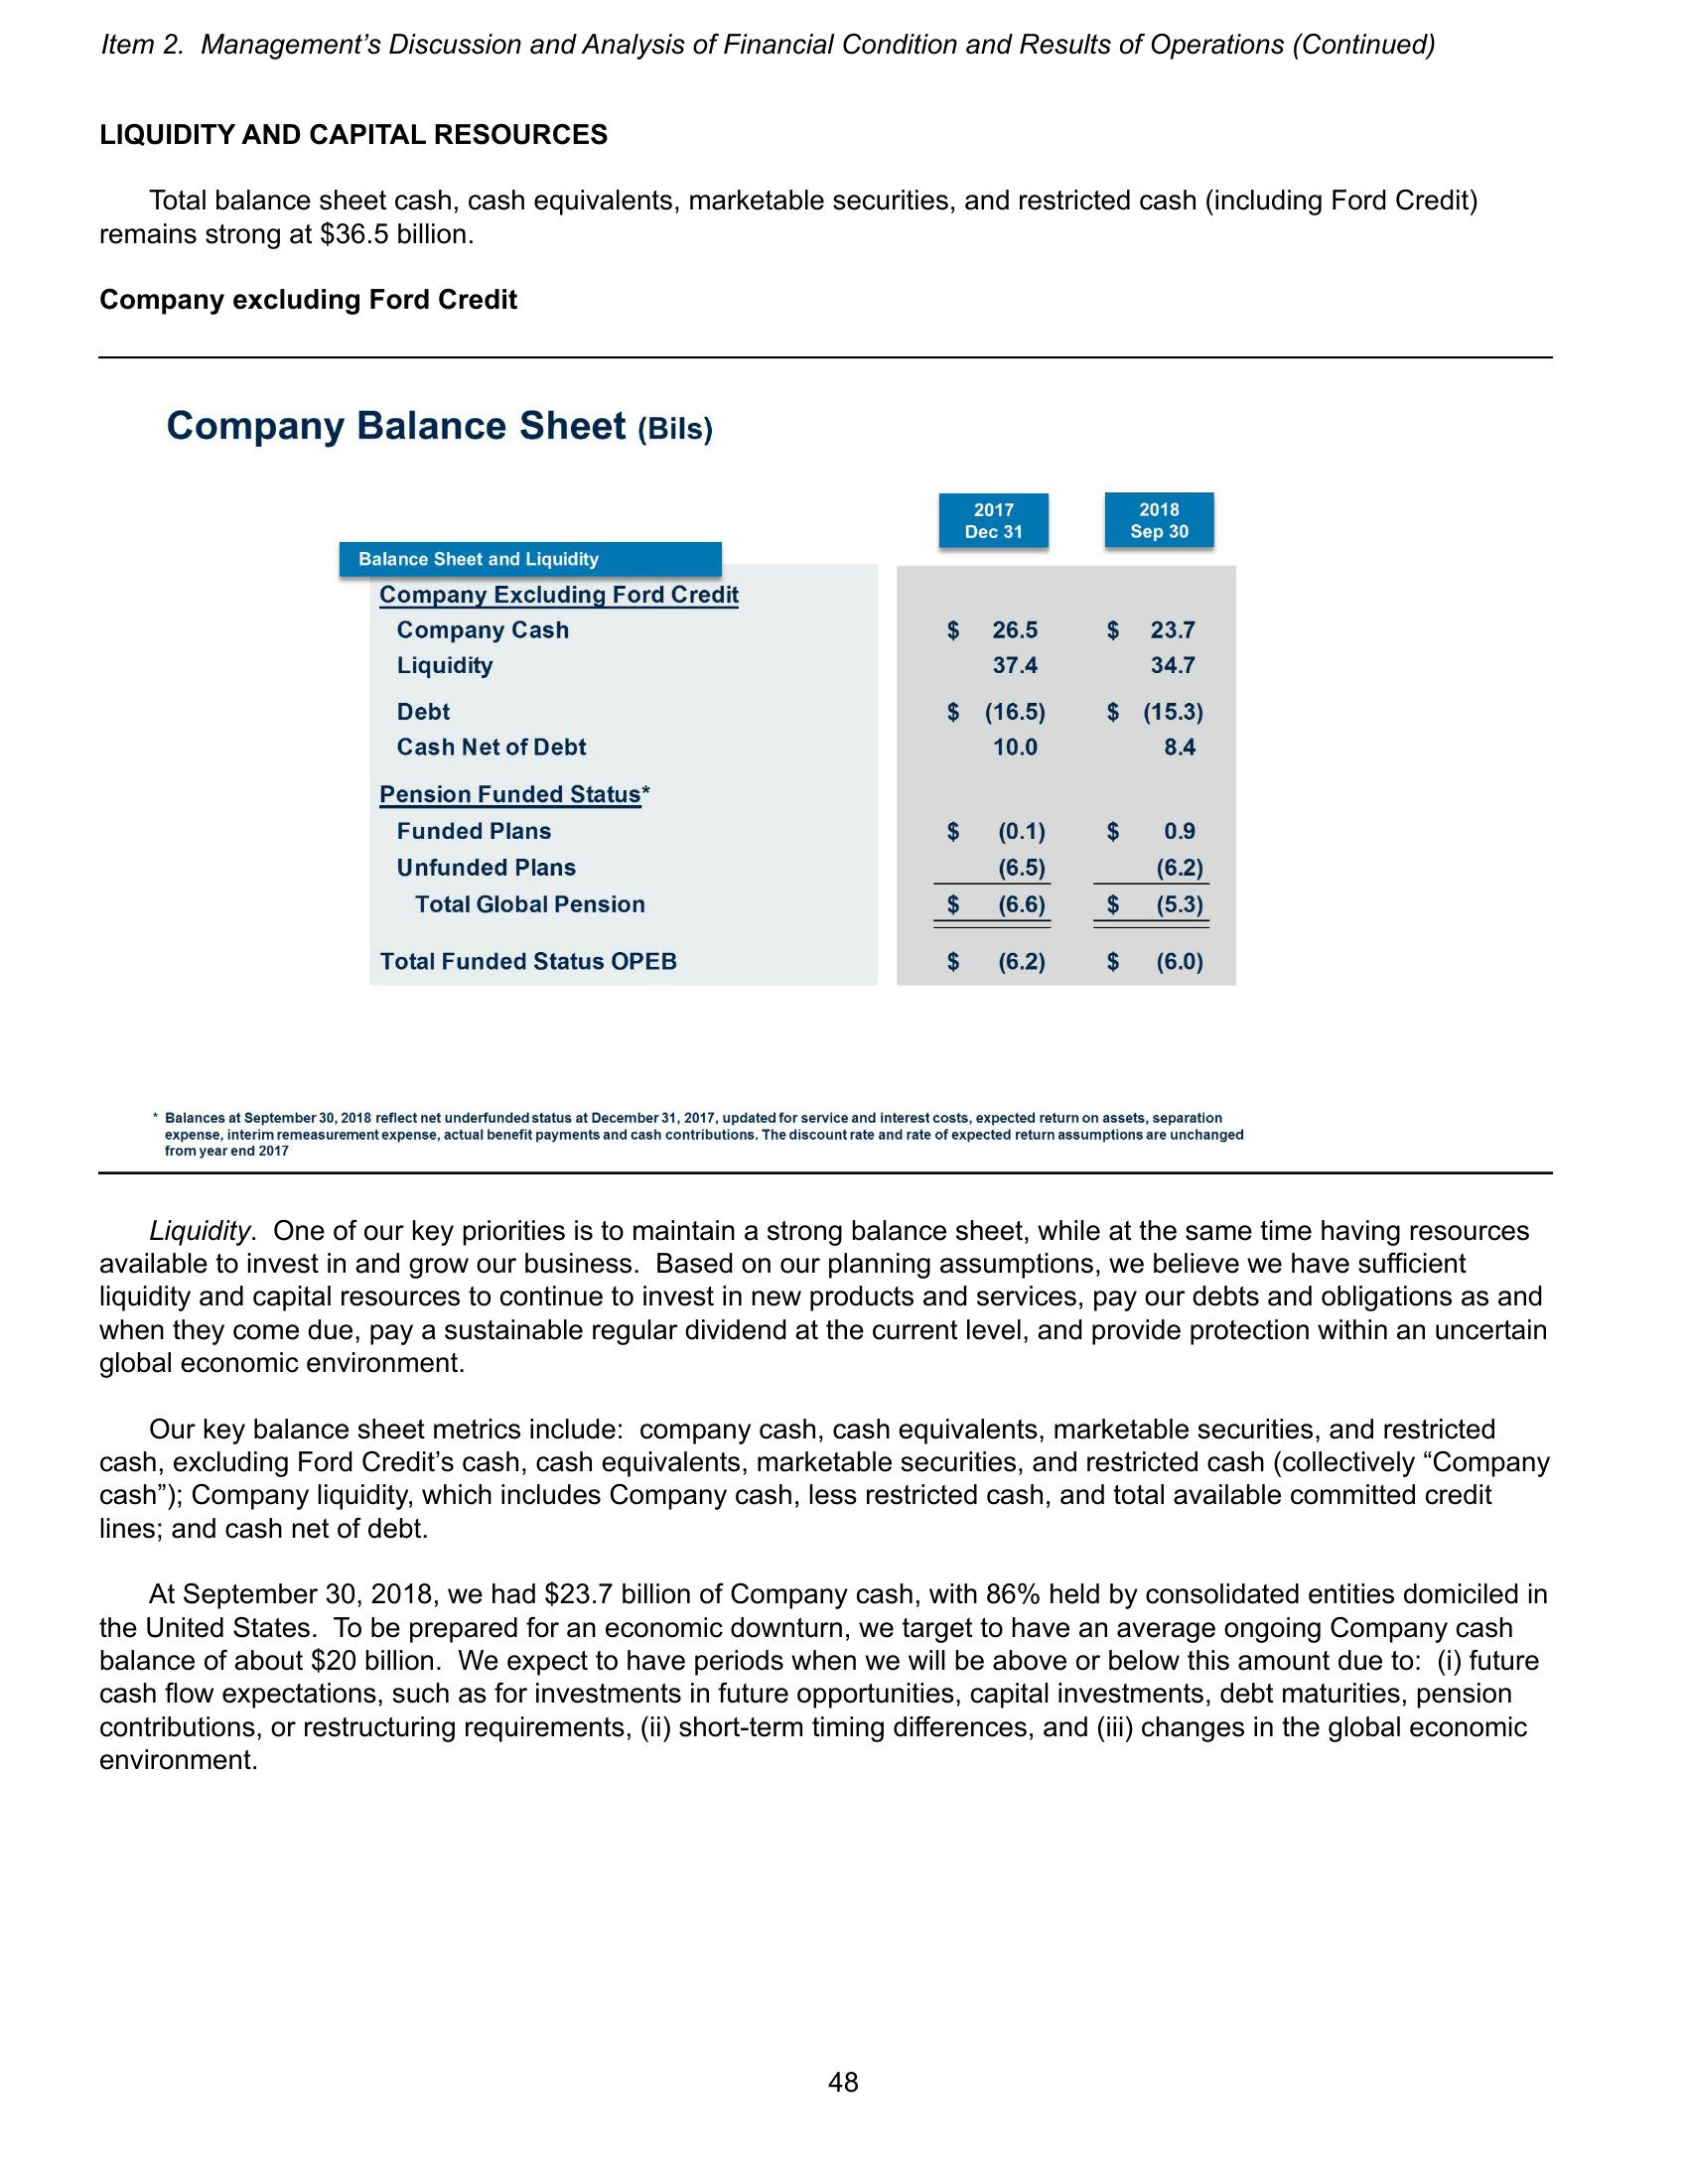table: (333, 486, 1243, 991)
